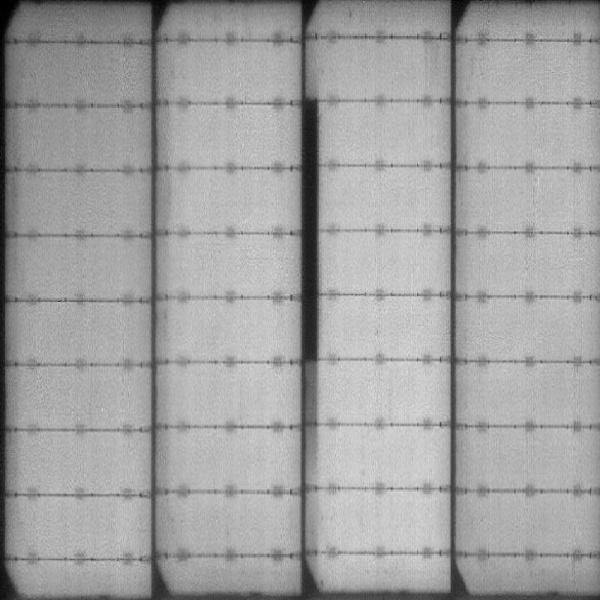black_border: (302, 89, 321, 466)
